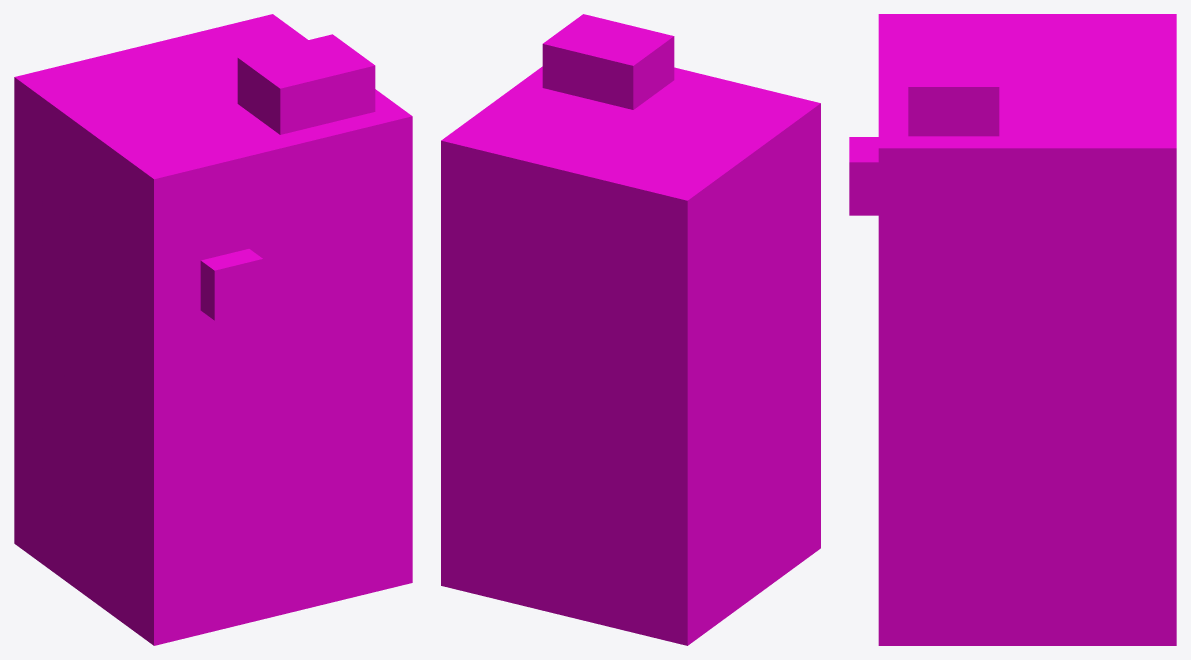
Rendered from low_poly_skyscraper.glb.
3 views of the same model, side by side, from view 1: azimuth 30°, elevation 25°; view 2: azimuth 150°, elevation 25°; view 3: azimuth 270°, elevation 25° (orthographic). The views are drawn at different scales.
Parts seen in each view (by area): view 1: col_roof_31, col_roof_232, col_roof_335, col_block_560, col_block_120, col_block_340, col_block_670, col_roof_10, col_roof_122, col_block_10, col_block_450, col_block_230 (+193 smaller); view 2: col_roof_223, col_roof_333, col_block_01, col_roof_113, col_roof_01, col_block_661, col_block_221, col_block_551, col_block_111, col_block_441, col_block_331, col_roof_303 (+194 smaller); view 3: col_roof_332, col_roof_323, col_roof_325, col_roof_342, col_roof_324, col_roof_329, col_roof_331, col_roof_326, col_roof_328, col_roof_327, col_roof_330, col_roof_42 (+92 smaller).
Boxes of the visible parts, x1=… form: col_roof_31: x1=200, y1=254, x2=239, y2=320; col_roof_232: x1=139, y1=163, x2=179, y2=227; col_roof_335: x1=265, y1=72, x2=305, y2=134; col_block_560: x1=139, y1=354, x2=179, y2=414; col_block_120: x1=139, y1=539, x2=179, y2=599; col_block_340: x1=139, y1=446, x2=179, y2=506; col_block_670: x1=139, y1=308, x2=179, y2=367; col_roof_10: x1=139, y1=262, x2=179, y2=321; col_roof_122: x1=139, y1=216, x2=179, y2=275; col_block_10: x1=139, y1=585, x2=179, y2=645; col_block_450: x1=139, y1=400, x2=179, y2=459; col_block_230: x1=139, y1=493, x2=179, y2=549; col_roof_223: x1=663, y1=184, x2=701, y2=246; col_roof_333: x1=609, y1=50, x2=647, y2=109; col_block_01: x1=663, y1=588, x2=701, y2=645; col_roof_113: x1=663, y1=235, x2=701, y2=291; col_roof_01: x1=663, y1=279, x2=701, y2=336; col_block_661: x1=663, y1=323, x2=701, y2=380; col_block_221: x1=663, y1=499, x2=701, y2=553; col_block_551: x1=663, y1=367, x2=701, y2=424; col_block_111: x1=663, y1=544, x2=701, y2=601; col_block_441: x1=663, y1=411, x2=701, y2=468; col_block_331: x1=663, y1=455, x2=701, y2=509; col_roof_303: x1=485, y1=141, x2=523, y2=204; col_roof_332: x1=878, y1=135, x2=910, y2=201; col_roof_323: x1=1144, y1=135, x2=1176, y2=201; col_roof_325: x1=1085, y1=135, x2=1117, y2=201; col_roof_342: x1=967, y1=74, x2=999, y2=136; col_roof_324: x1=1115, y1=135, x2=1147, y2=201; col_roof_329: x1=967, y1=136, x2=999, y2=201; col_roof_331: x1=908, y1=136, x2=940, y2=201; col_roof_326: x1=1056, y1=135, x2=1087, y2=201; col_roof_328: x1=997, y1=135, x2=1028, y2=201; col_roof_327: x1=1026, y1=135, x2=1058, y2=201; col_roof_330: x1=938, y1=136, x2=969, y2=201; col_roof_42: x1=849, y1=150, x2=878, y2=215.
Size of the model in its own units: 196 by 372 by 202.
